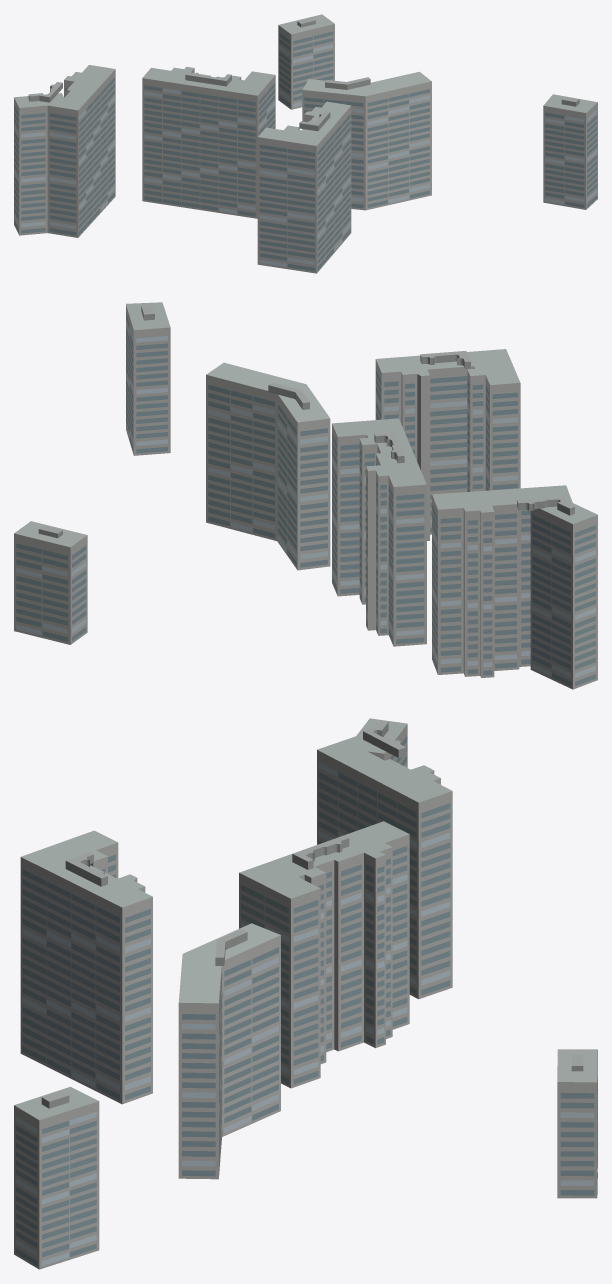
The model's file is apt-a10026900.glb.
The picture shows the model from 3 angles, top to bottom: view 1: azimuth 30°, elevation 25°; view 2: azimuth 150°, elevation 25°; view 3: azimuth 270°, elevation 25°; orthographic projection. The views are drawn at different scales.
Parts seen in each view (by area): view 1: apt-a10026900; view 2: apt-a10026900; view 3: apt-a10026900.
Boxes of the visible parts, x1,y1,x2,y2 form: apt-a10026900: (14, 14, 597, 273); apt-a10026900: (14, 302, 597, 689); apt-a10026900: (14, 718, 597, 1269).
Size of the model in its own units: 219 by 59 by 152.
